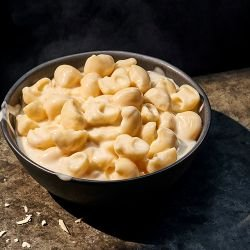pasta: (175, 111, 202, 141)
sushi: (7, 48, 215, 209)
